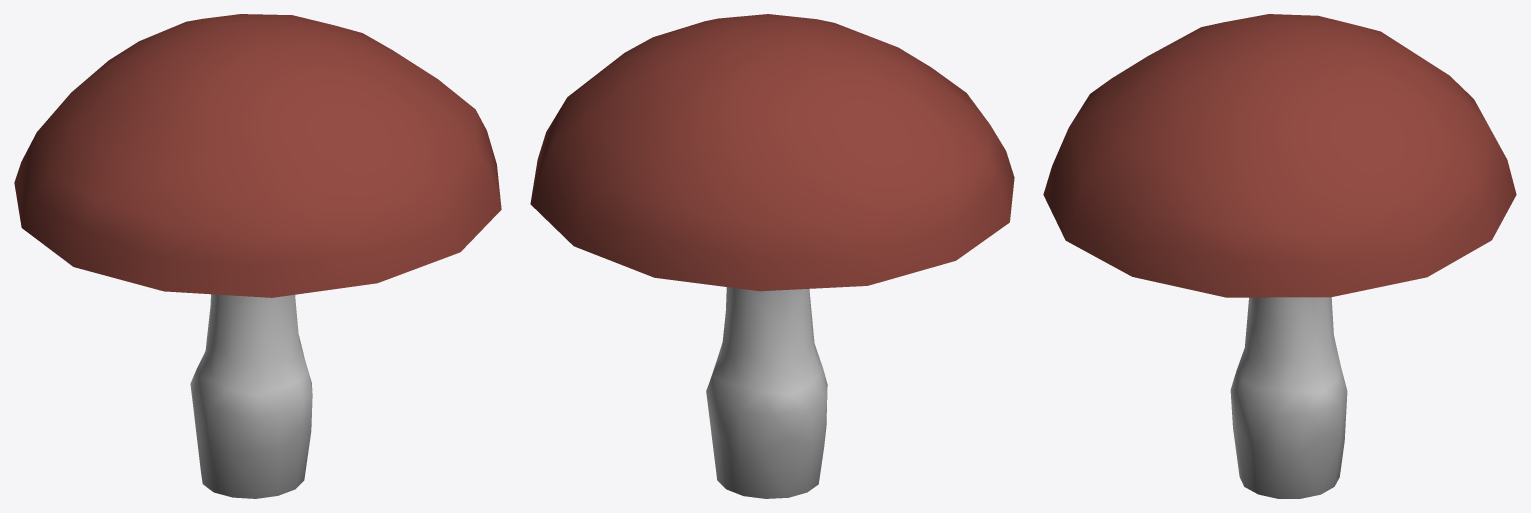
The model's file is plant_mushroom_small_3.glb.
3 renders of one model, left to right at view 1: azimuth 30°, elevation 25°; view 2: azimuth 150°, elevation 25°; view 3: azimuth 270°, elevation 25°, orthographic.
Parts seen in each view (by area): view 1: refined; view 2: refined; view 3: refined.
Boxes of the visible parts, left/top/right/bottom form: refined: left=14, top=14, right=501, bottom=498; refined: left=530, top=14, right=1014, bottom=498; refined: left=1043, top=14, right=1516, bottom=498.
Bounding box in the file's own units: 0.4028 × 0.4 × 0.3927.
